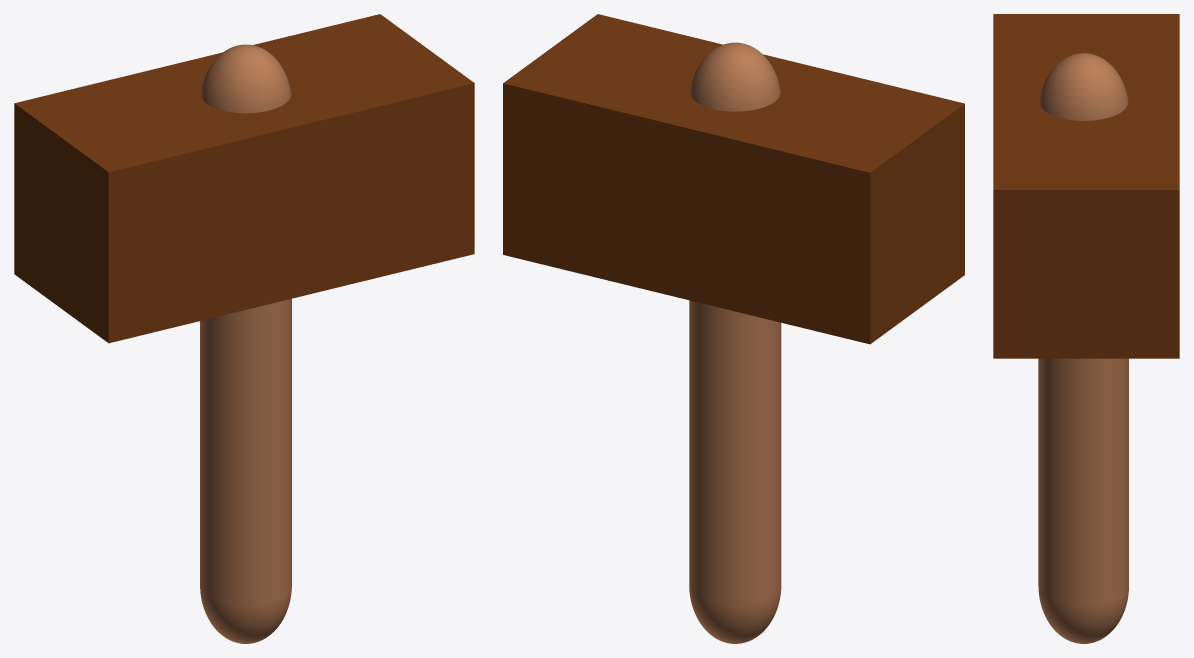
File: Hammer mole.fbx
The picture shows the model from 3 angles, left to right: view 1: azimuth 30°, elevation 25°; view 2: azimuth 150°, elevation 25°; view 3: azimuth 270°, elevation 25°; orthographic projection.
Parts seen in each view (by area): view 1: node_id42, node_id40; view 2: node_id42, node_id40; view 3: node_id42, node_id40.
Boxes of the visible parts, box(x1,y1,x2,y2) form: node_id42: box(14, 14, 474, 343); node_id40: box(200, 44, 291, 643); node_id42: box(503, 14, 964, 344); node_id40: box(689, 42, 781, 643); node_id42: box(993, 14, 1179, 358); node_id40: box(1038, 53, 1128, 643).
Bounding box in the file's own units: 0.0714 × 0.1105 × 0.0319.
2 materials, 2 textured.
